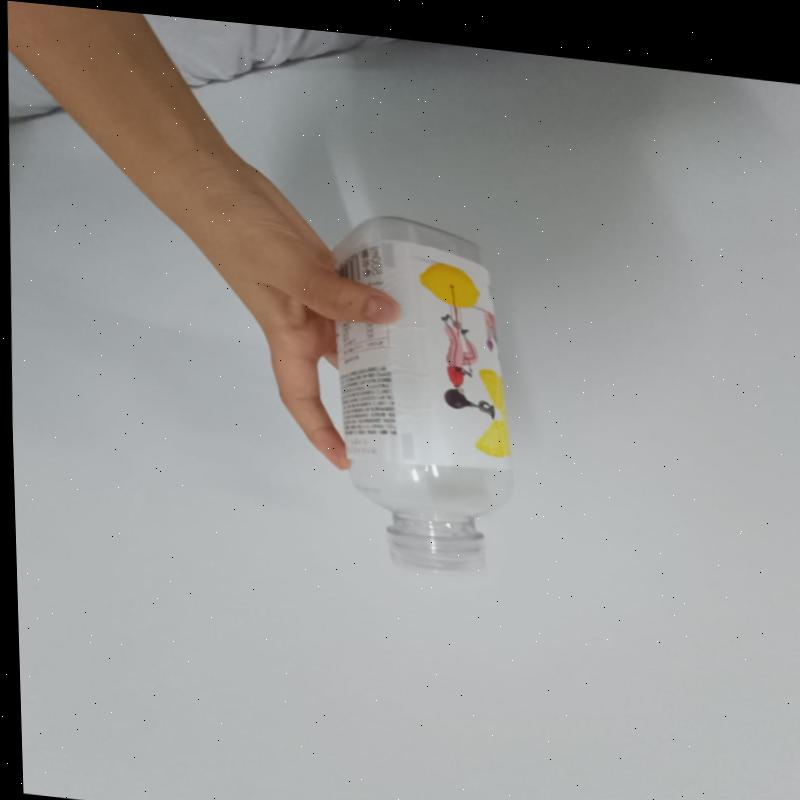botella: (327, 202, 514, 576)
